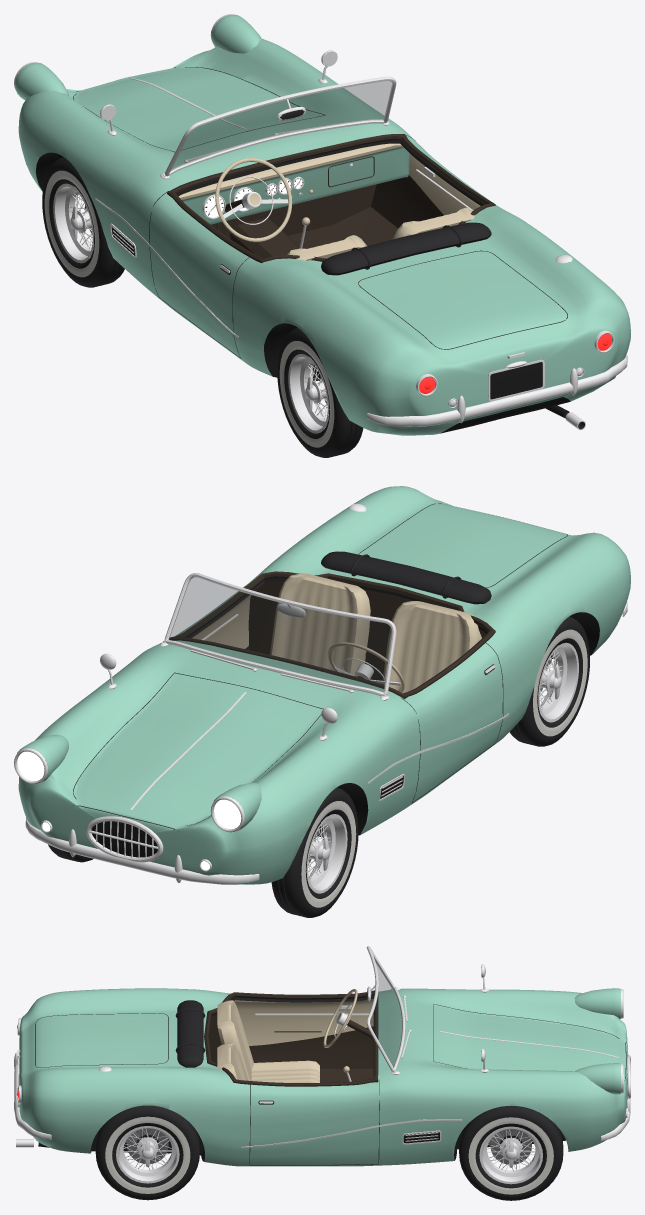
The model's file is lark_roadster.glb.
3 views of the same model, one above another, from view 1: azimuth 30°, elevation 25°; view 2: azimuth 150°, elevation 25°; view 3: azimuth 270°, elevation 25° (orthographic). The views are drawn at different scales.
Visible parts, largest first — view 1: Body, Interior, Glass, Wheel_RL, Wheel_FL, SteeringWheel; view 2: Body, Interior, Glass, Wheel_FL, Wheel_RL, Lights_Head, SteeringWheel; view 3: Body, Interior, Wheel_FR, Wheel_RR, Glass, SteeringWheel.
Part boxes in pixels (x1,y1,x2,y2): Body: (14, 14, 630, 435); Interior: (167, 134, 495, 262); Glass: (171, 81, 391, 170); Wheel_RL: (277, 327, 363, 457); Wheel_FL: (42, 157, 124, 287); SteeringWheel: (215, 158, 292, 242); Body: (14, 486, 630, 884); Interior: (169, 571, 495, 699); Glass: (169, 577, 391, 691); Wheel_FL: (271, 787, 358, 917); Wheel_RL: (509, 616, 589, 746); Lights_Head: (17, 751, 241, 869); SteeringWheel: (327, 642, 404, 692); Body: (14, 946, 630, 1166); Interior: (204, 990, 378, 1086); Wheel_FR: (459, 1105, 563, 1200); Wheel_RR: (95, 1105, 199, 1200); Glass: (370, 957, 402, 1067); SteeringWheel: (323, 989, 357, 1047).
Size of the model in its own units: 1.55 by 1.2 by 3.9.
